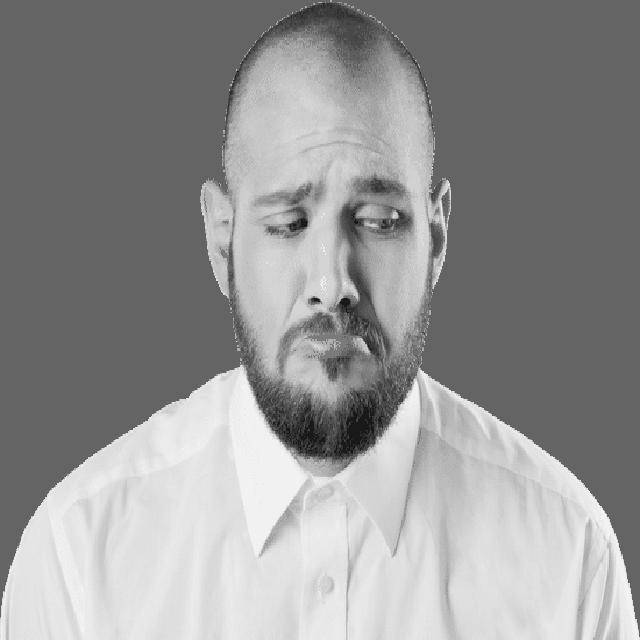Sadness: (241, 69, 431, 432)
